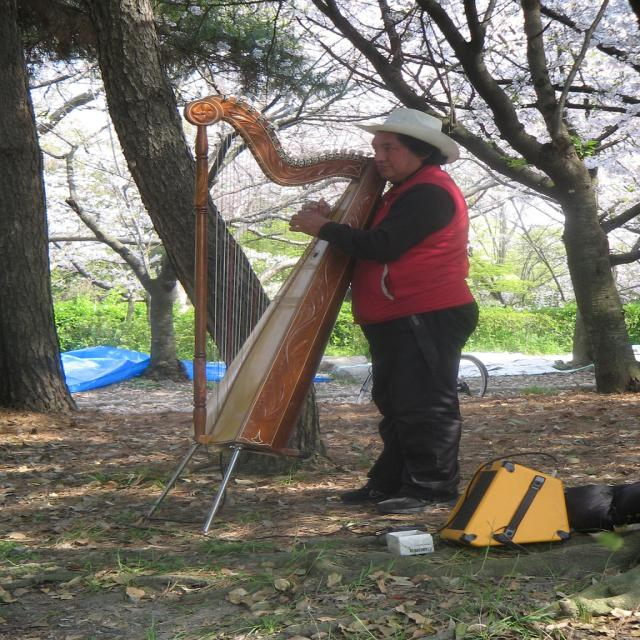harp: (188, 91, 388, 452)
